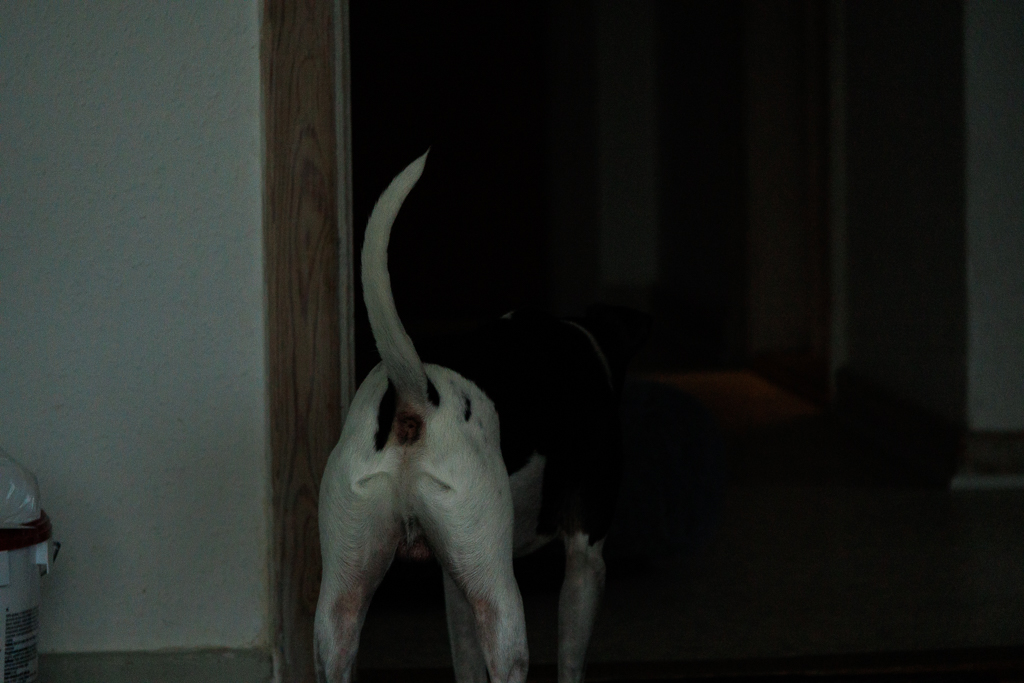Dog: (293, 142, 655, 683)
